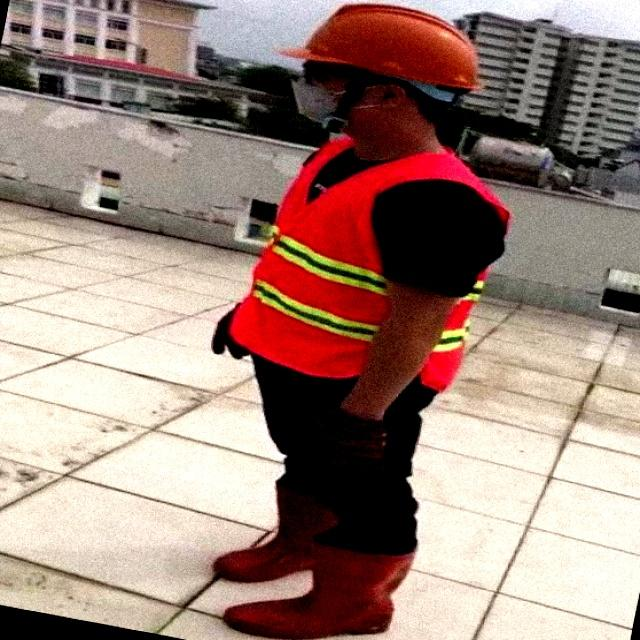helmet: (281, 3, 508, 93)
safety_vest: (220, 137, 536, 420)
